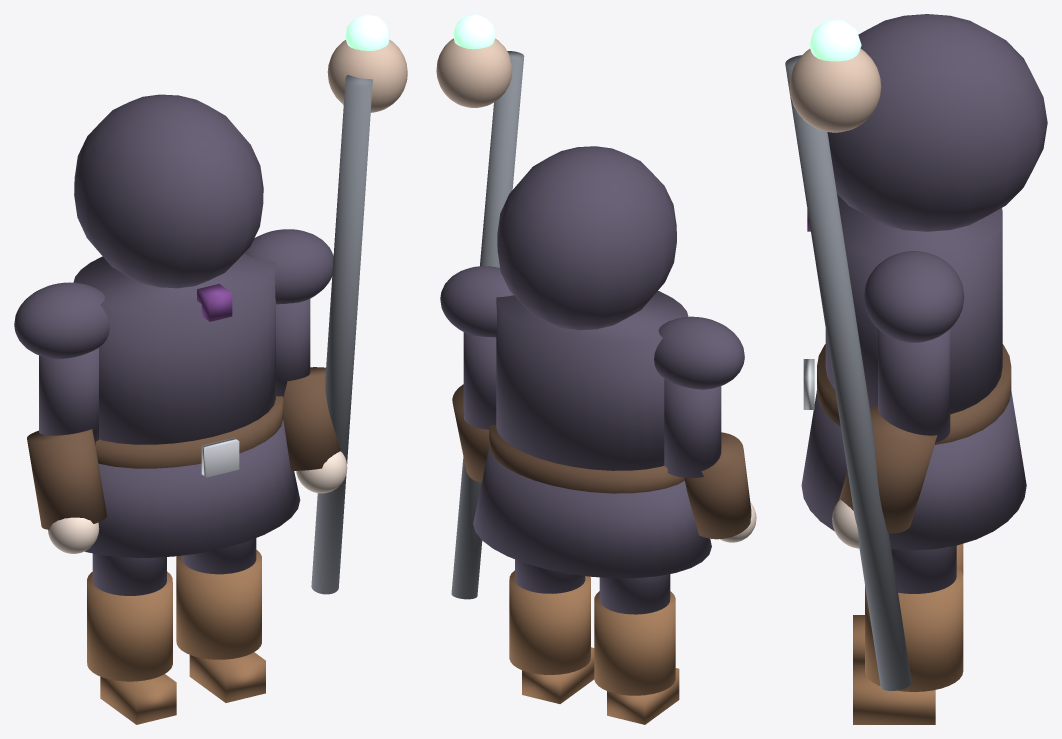
File: hero_necromancer.glb
The picture shows the model from 3 angles, left to right: view 1: azimuth 30°, elevation 25°; view 2: azimuth 150°, elevation 25°; view 3: azimuth 270°, elevation 25°; orthographic projection. The views are drawn at different scales.
Visible parts, largest first — view 1: Sphere.007, Cylinder, Cone, Cylinder.010, Cylinder.003, Cylinder.005, Cylinder.007, Sphere.008, Cylinder.006, Sphere.010, Cylinder.009, Cylinder.001 (+11 smaller); view 2: Sphere.007, Cylinder, Cone, Cylinder.010, Cylinder.003, Cylinder.005, Sphere.008, Cylinder.006, Cylinder.007, Cylinder.001, Sphere.012, Sphere.010 (+7 smaller); view 3: Sphere.007, Cylinder.010, Cylinder, Cone, Sphere.010, Cylinder.008, Cylinder.005, Sphere.012, Cylinder.009, Cube.003, Cylinder.001, Cylinder.004 (+4 smaller).
Boxes of the visible parts, x1,y1,x2,y2 form: Sphere.007: (74,94,263,288); Cylinder: (73,253,275,444); Cone: (85,419,300,557); Cylinder.010: (311,75,372,594); Cylinder.003: (87,571,172,681); Cylinder.005: (176,550,261,659); Cylinder.007: (27,429,106,529); Sphere.008: (14,282,109,359); Cylinder.006: (39,348,98,445); Sphere.010: (245,229,333,304); Cylinder.009: (283,367,340,470); Cylinder.001: (95,396,283,468); Sphere.007: (497,146,676,330); Cylinder: (496,291,688,470); Cone: (473,446,711,578); Cylinder.010: (451,51,524,599); Cylinder.003: (594,591,675,695); Cylinder.005: (509,570,590,674); Sphere.008: (654,316,744,389); Cylinder.006: (664,378,721,477); Cylinder.007: (684,432,751,539); Cylinder.001: (489,425,684,493); Sphere.012: (436,38,512,107); Sphere.010: (440,266,513,337); Sphere.007: (827,14,1047,231); Cylinder.010: (785,55,911,690); Cylinder: (825,194,1002,414); Cone: (801,391,1026,550); Sphere.010: (864,251,964,342); Cylinder.008: (878,329,950,443); Cylinder.005: (865,566,963,691); Sphere.012: (789,48,881,132); Cylinder.009: (839,405,937,533); Cube.003: (853,665,935,724); Cylinder.001: (817,344,1011,444); Cylinder.004: (891,545,956,593).
Size of the model in its own units: 0.7035 by 1.27 by 0.3999.
